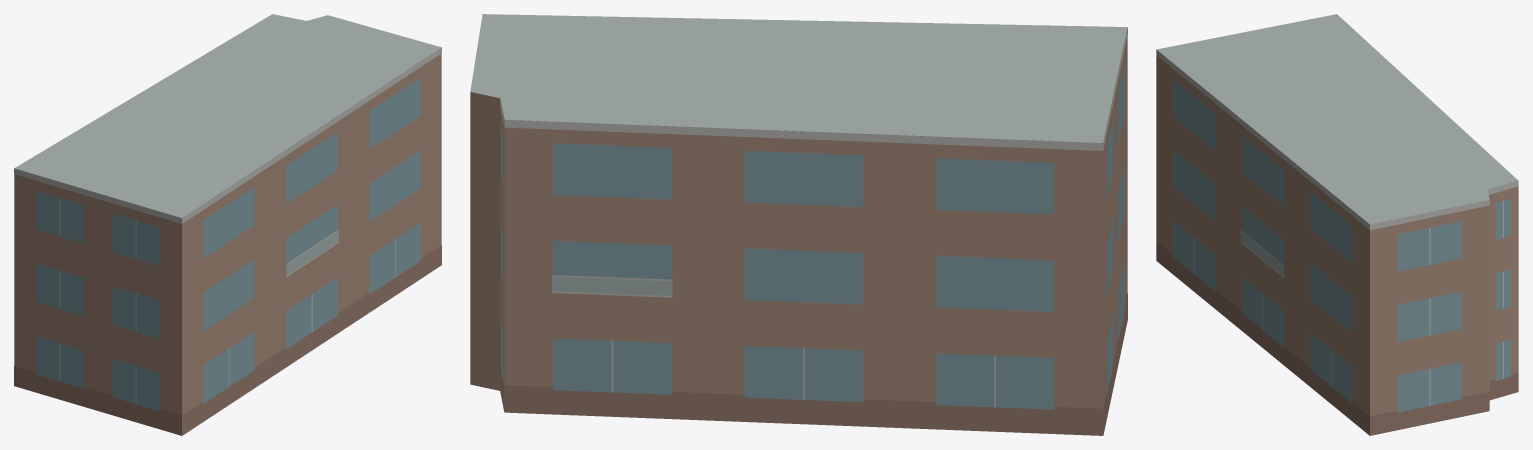
File: survey-upis-32666274.glb
3 views of the same model, side by side, from view 1: azimuth 30°, elevation 25°; view 2: azimuth 150°, elevation 25°; view 3: azimuth 270°, elevation 25° (orthographic). The views are drawn at different scales.
Parts seen in each view (by area): view 1: survey-upis-32666274.tmp; view 2: survey-upis-32666274.tmp; view 3: survey-upis-32666274.tmp.
Part boxes in pixels (x1,y1,x2,y2): survey-upis-32666274.tmp: (14, 14, 441, 435); survey-upis-32666274.tmp: (470, 14, 1127, 435); survey-upis-32666274.tmp: (1156, 14, 1518, 435).
Bounding box in the file's own units: 19.46 × 9.1 × 14.14.
